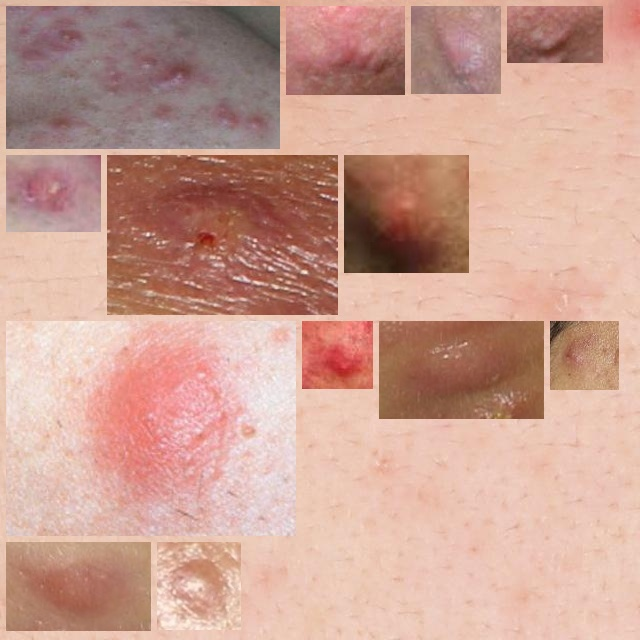nodule: (14, 329, 288, 528), (14, 14, 272, 141), (115, 163, 330, 307), (387, 329, 536, 411), (352, 163, 461, 265), (14, 550, 143, 623), (294, 14, 397, 87), (419, 14, 493, 86), (165, 550, 233, 622), (14, 163, 93, 224), (515, 14, 595, 55), (310, 329, 365, 381), (558, 329, 611, 382)
